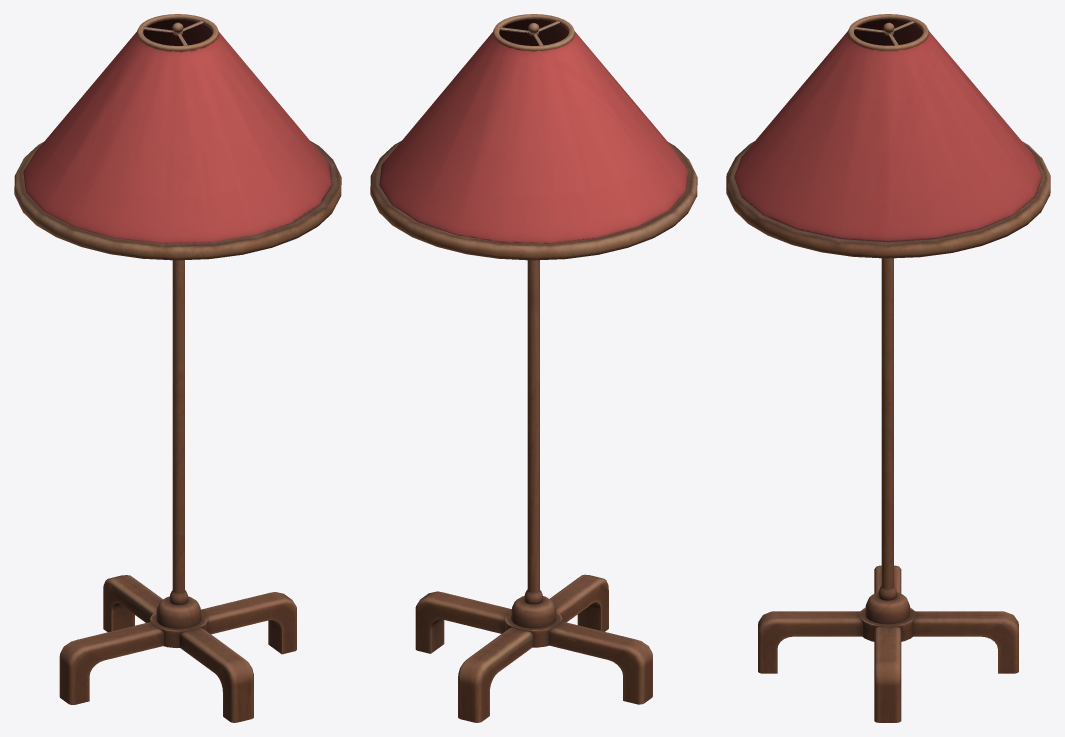
File: SM_LampTall_01.fbx
3 views of the same model, side by side, from view 1: azimuth 30°, elevation 25°; view 2: azimuth 150°, elevation 25°; view 3: azimuth 270°, elevation 25° (orthographic).
Visible parts, largest first — view 1: SM_LampTall_01_LOD0; view 2: SM_LampTall_01_LOD0; view 3: SM_LampTall_01_LOD0.
Boxes of the visible parts, x1=… form: SM_LampTall_01_LOD0: x1=14, y1=14, x2=341, y2=722; SM_LampTall_01_LOD0: x1=370, y1=14, x2=697, y2=722; SM_LampTall_01_LOD0: x1=726, y1=14, x2=1050, y2=722.
Size of the model in its own units: 60.14 by 59.87 by 131.
Materials: 1 (1 with a texture image).
